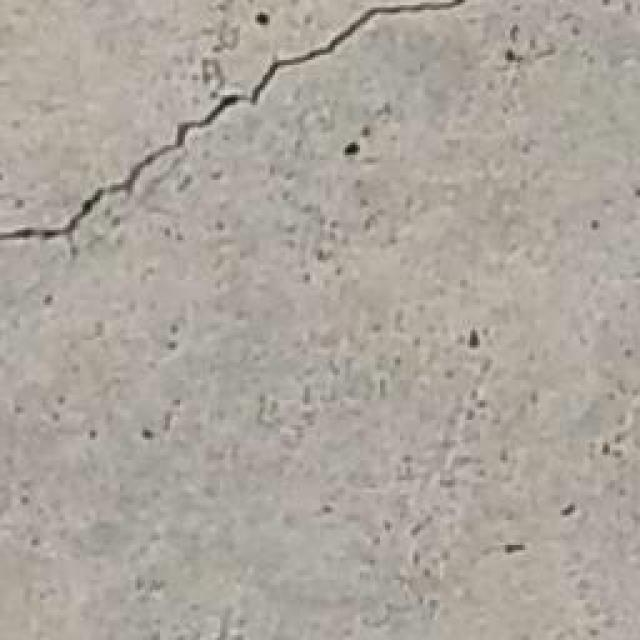concrete-crack: (2, 2, 465, 239)
